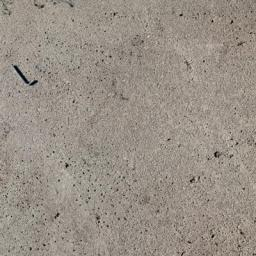FOD: (11, 63, 40, 89)
